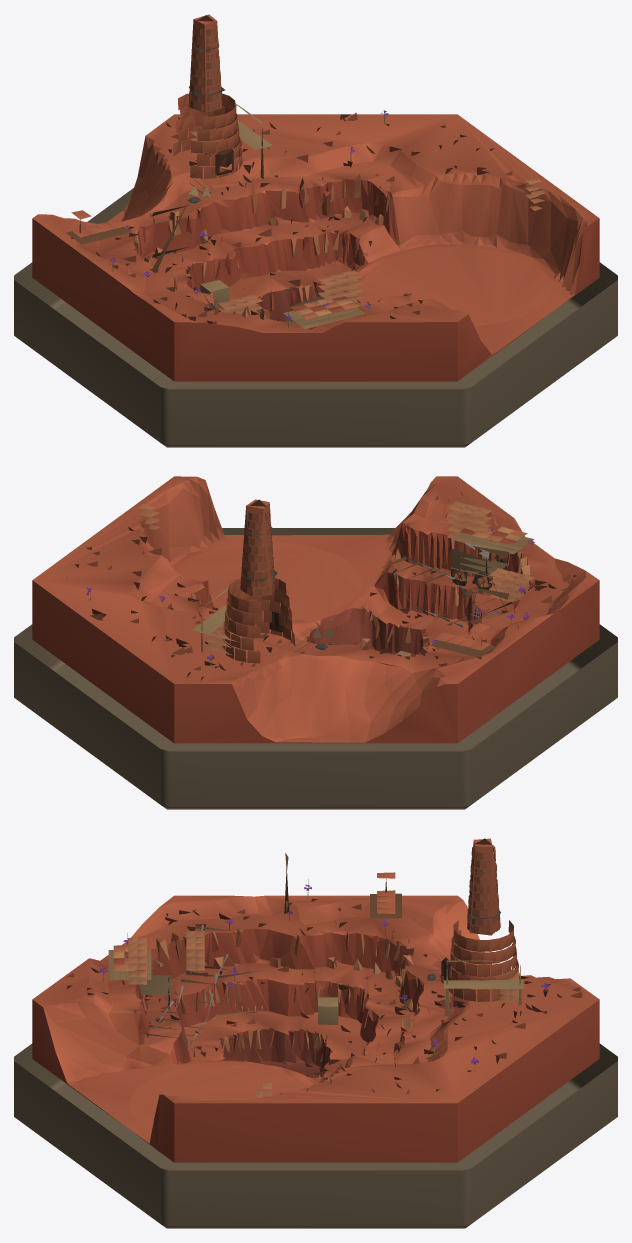
The model's file is tile_clay_lod0.glb.
The picture shows the model from 3 angles, top to bottom: view 1: azimuth 30°, elevation 25°; view 2: azimuth 150°, elevation 25°; view 3: azimuth 270°, elevation 25°; orthographic projection.
Parts seen in each view (by area): view 1: tile_clay_LOD0; view 2: tile_clay_LOD0; view 3: tile_clay_LOD0.
Boxes of the visible parts, box(x1,y1,x2,y2) form: tile_clay_LOD0: box(14, 14, 617, 447); tile_clay_LOD0: box(14, 476, 617, 809); tile_clay_LOD0: box(14, 838, 617, 1228).
Size of the model in its own units: 1.73 by 0.957 by 1.98.
